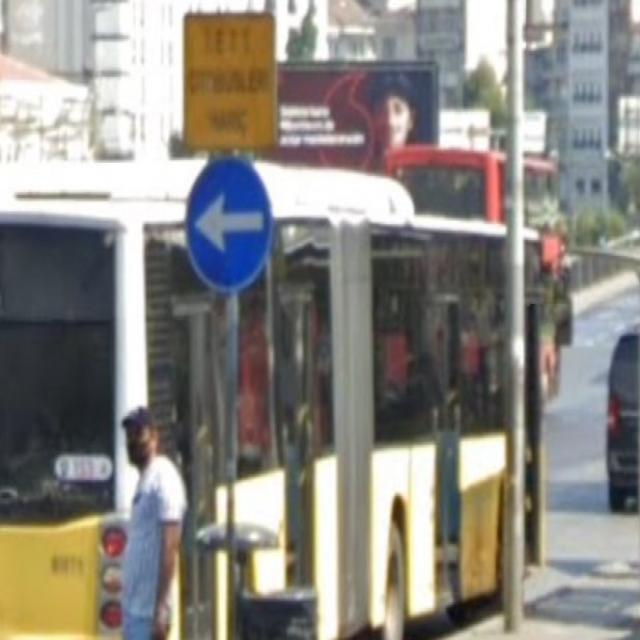Turn Left: (179, 160, 279, 288)
